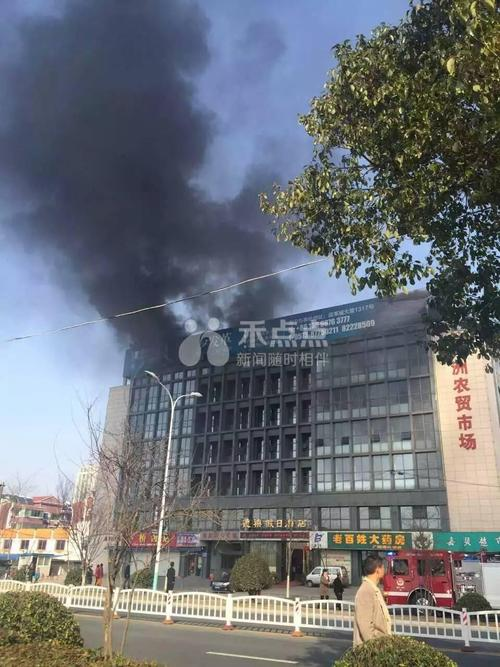smoke: (1, 1, 296, 344)
